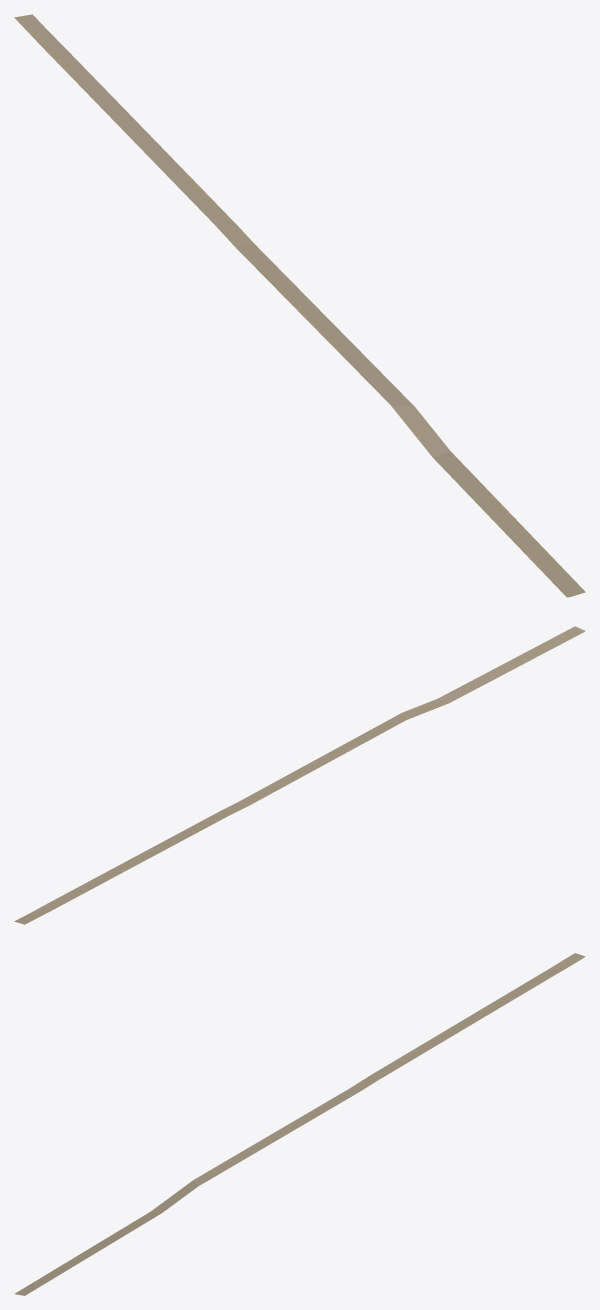
The model's file is farm_19_34_track.glb.
The picture shows the model from 3 angles, top to bottom: view 1: azimuth 30°, elevation 25°; view 2: azimuth 150°, elevation 25°; view 3: azimuth 330°, elevation 25°; orthographic projection. The views are drawn at different scales.
Visible parts, largest first — view 1: geometry_0; view 2: geometry_0; view 3: geometry_0.
Part boxes in pixels (left/top/right/bottom): geometry_0: left=14, top=14, right=585, bottom=597; geometry_0: left=14, top=626, right=585, bottom=924; geometry_0: left=14, top=953, right=585, bottom=1295.
Size of the model in its own units: 30 by 6.34 by 226.
